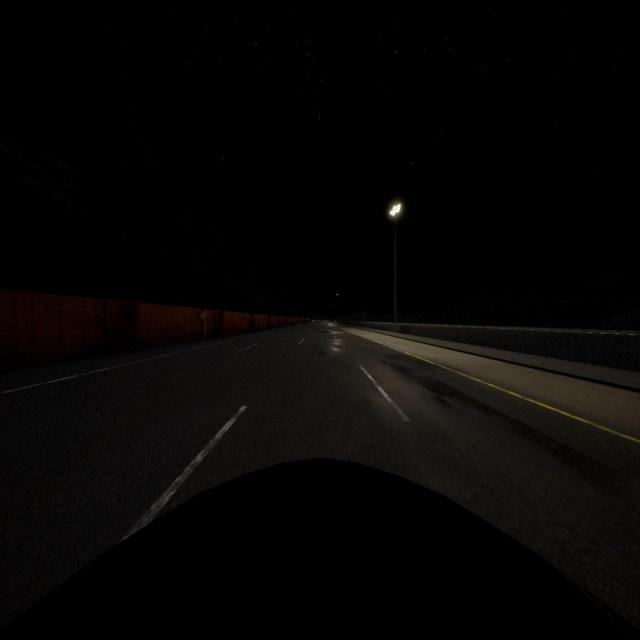Traffic_Signs: (200, 311, 207, 320)
Vehicle: (0, 458, 639, 640)
